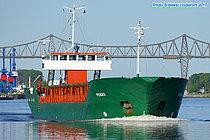Ship: (24, 2, 191, 126)
